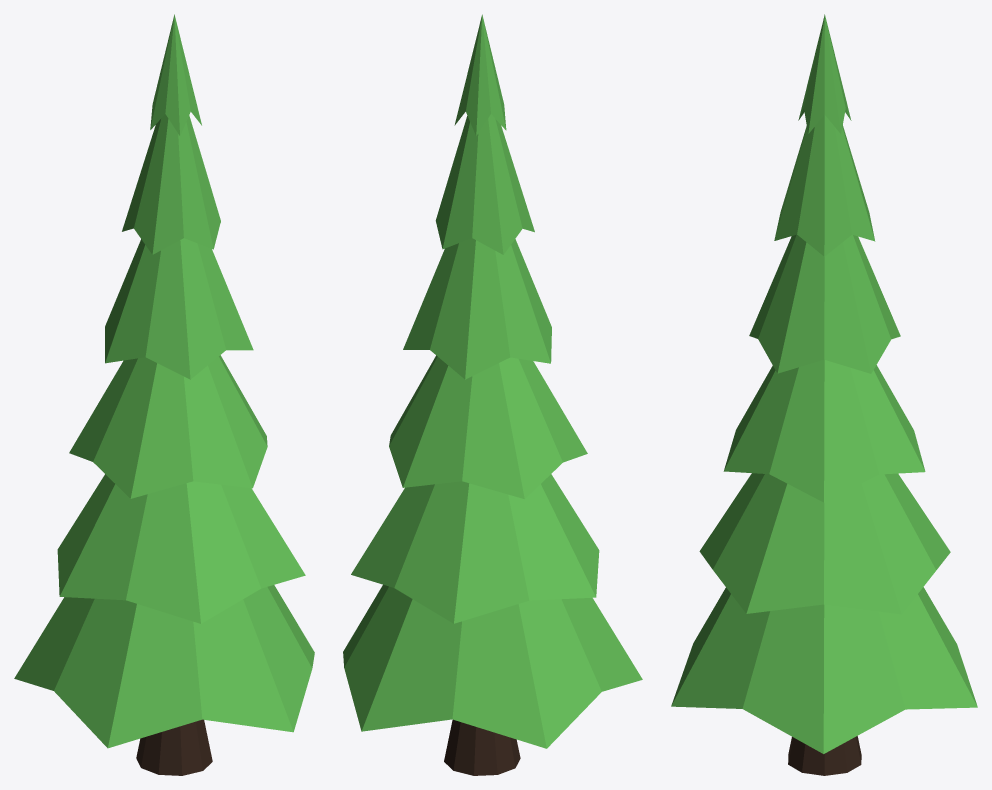
File: Tree Pine.fbx
3 views of the same model, side by side, from view 1: azimuth 30°, elevation 25°; view 2: azimuth 150°, elevation 25°; view 3: azimuth 270°, elevation 25° (orthographic).
Parts seen in each view (by area): view 1: Green Pine Tree 2; view 2: Green Pine Tree 2; view 3: Green Pine Tree 2.
Part boxes in pixels (<box>): Green Pine Tree 2: <box>14,14,314,775</box>; Green Pine Tree 2: <box>343,14,642,775</box>; Green Pine Tree 2: <box>671,14,977,775</box>.
Size of the model in its own units: 1.33 by 3.65 by 1.36.
